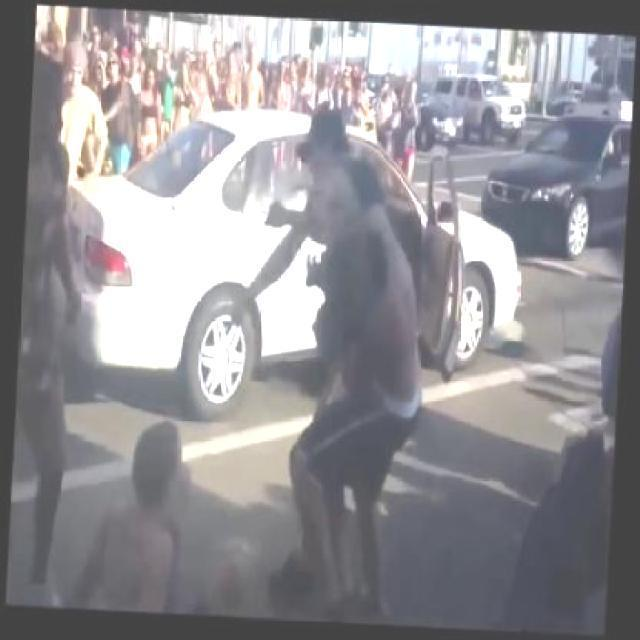fight: (221, 100, 437, 576)
